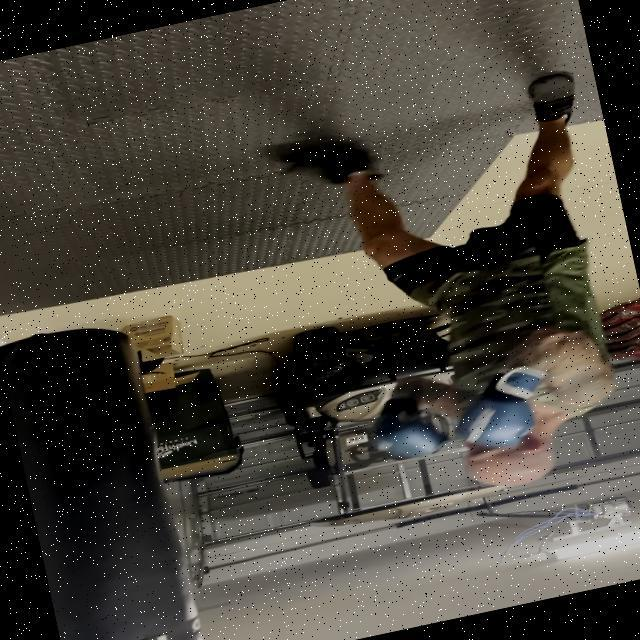bag: (0, 309, 220, 640)
no punch: (351, 312, 640, 525)
